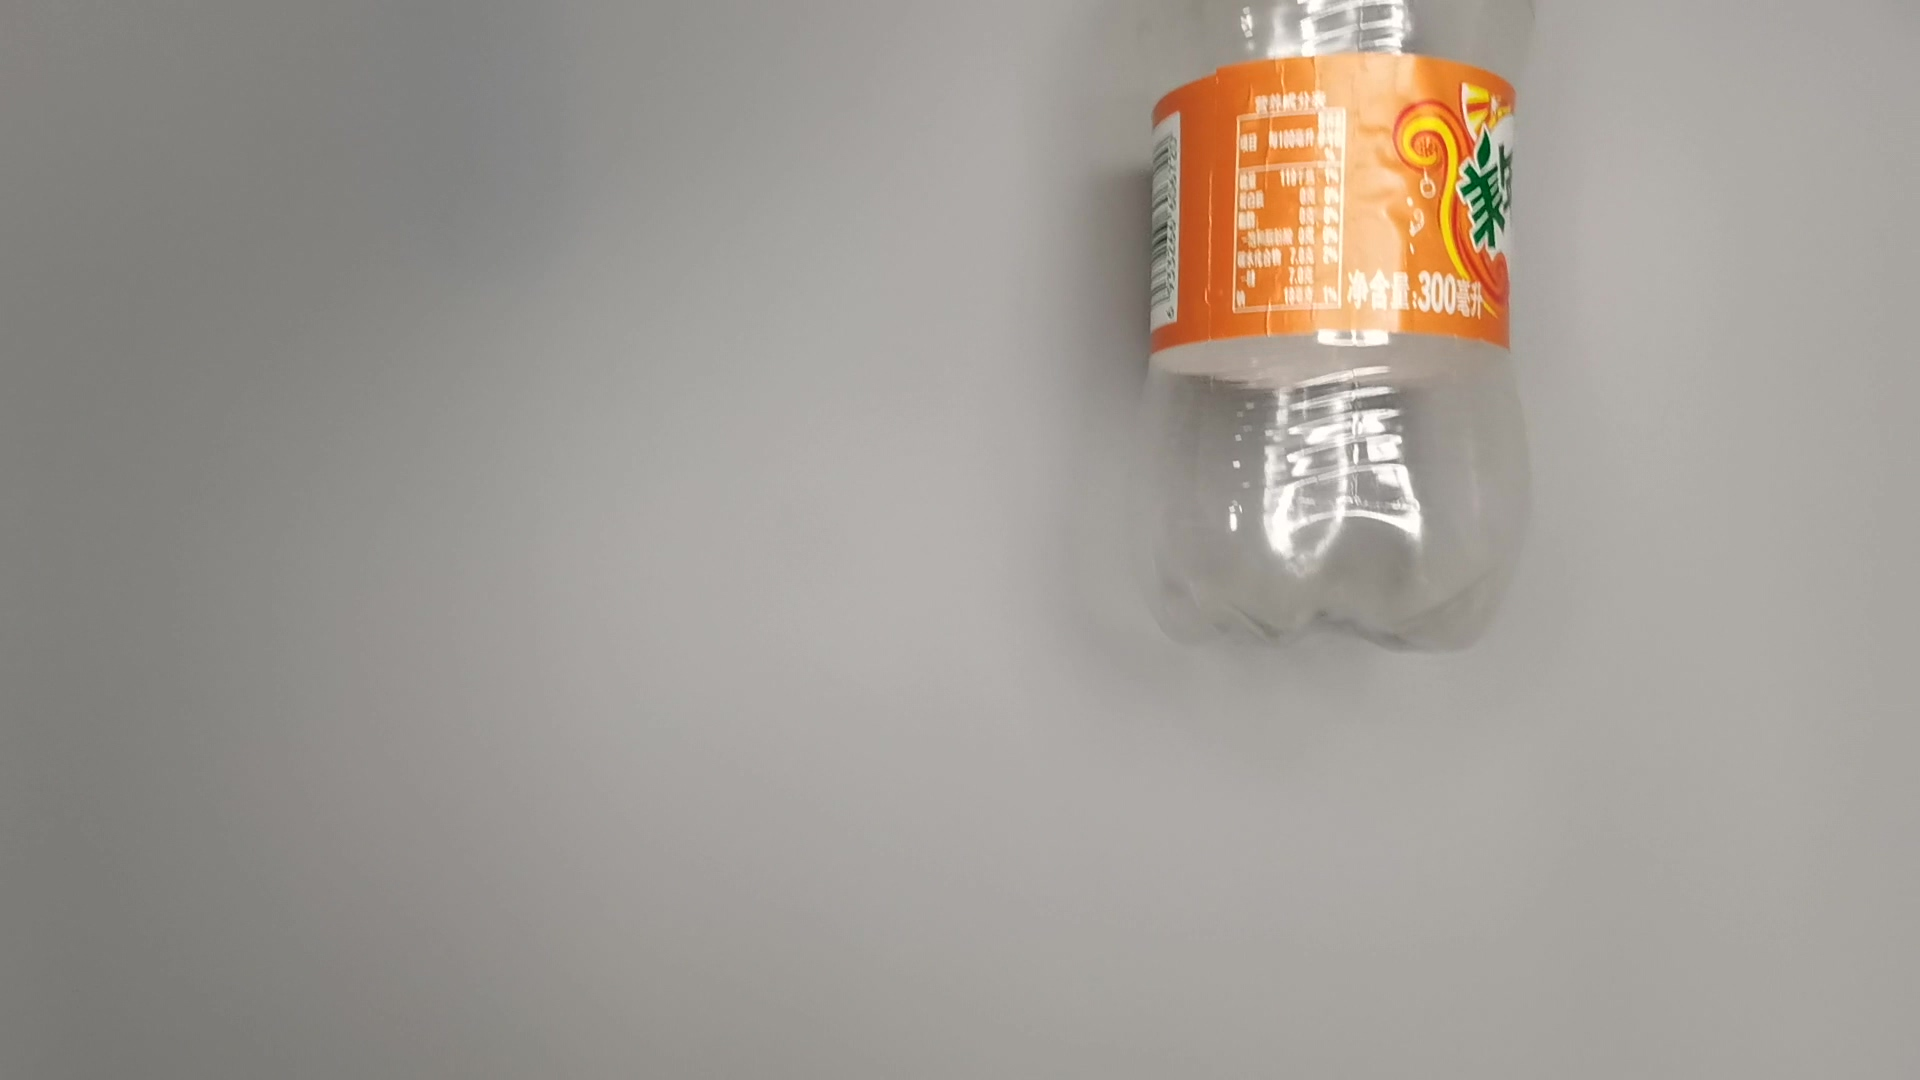bottle: (1124, 1, 1544, 659)
